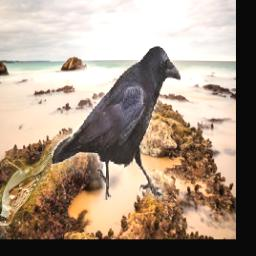Crow: (53, 45, 181, 200)
Sparrow: (0, 147, 55, 227)
